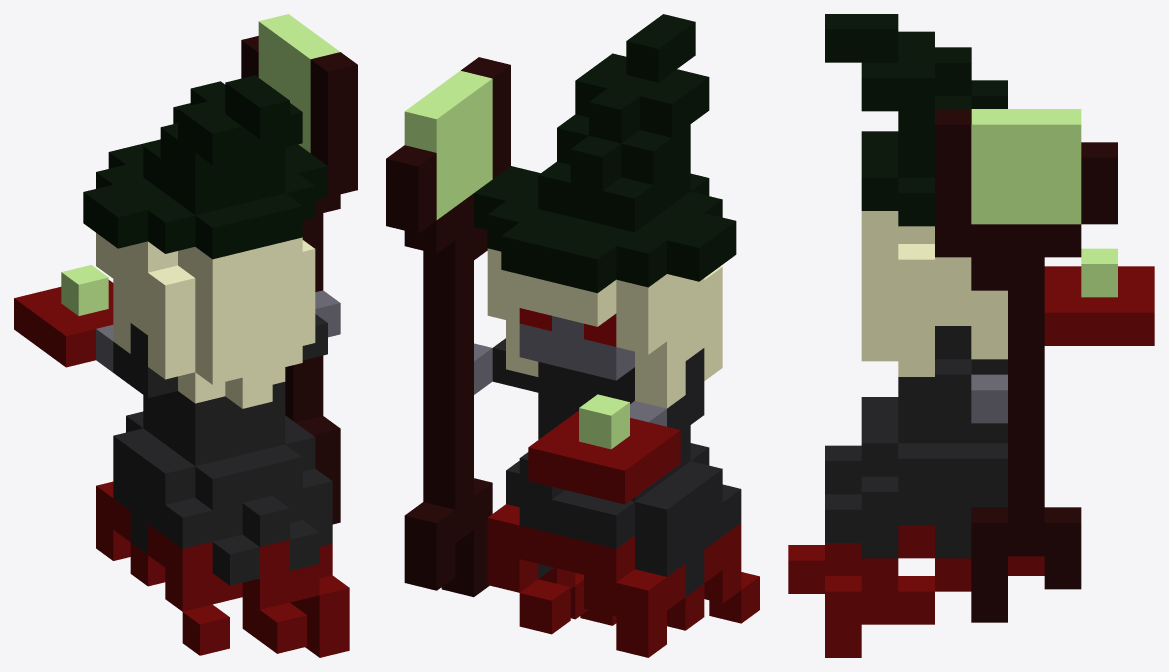
File: Big_Witch.obj
3 renders of one model, left to right at view 1: azimuth 30°, elevation 25°; view 2: azimuth 150°, elevation 25°; view 3: azimuth 270°, elevation 25°, orthographic. The views are drawn at different scales.
Size of the model in its own units: 0.8 by 1.8 by 1.
1 material, 1 textured.
